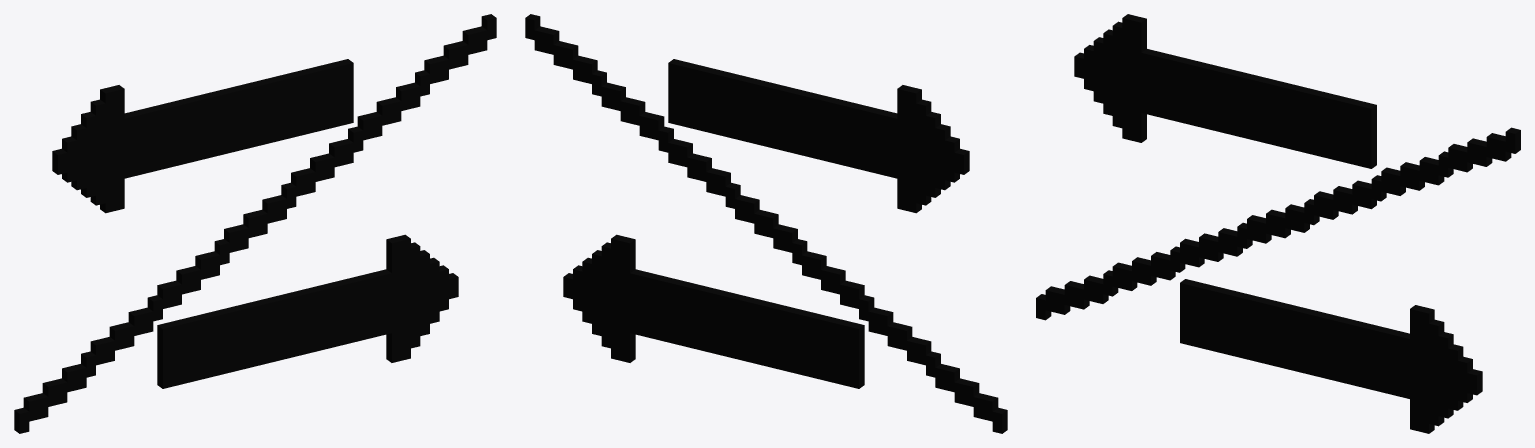
File: SendTrain.obj
3 renders of one model, left to right at view 1: azimuth 30°, elevation 25°; view 2: azimuth 150°, elevation 25°; view 3: azimuth 330°, elevation 25°, orthographic.
Size of the model in its own units: 5 by 3.4 by 0.1.
1 material, 1 textured.
